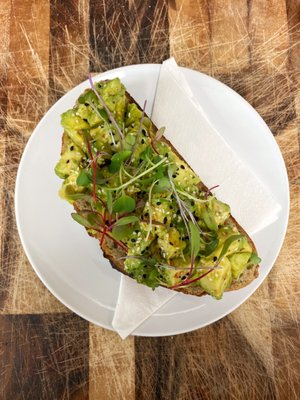curry: (1, 2, 298, 383)
sandwich: (53, 77, 263, 299)
